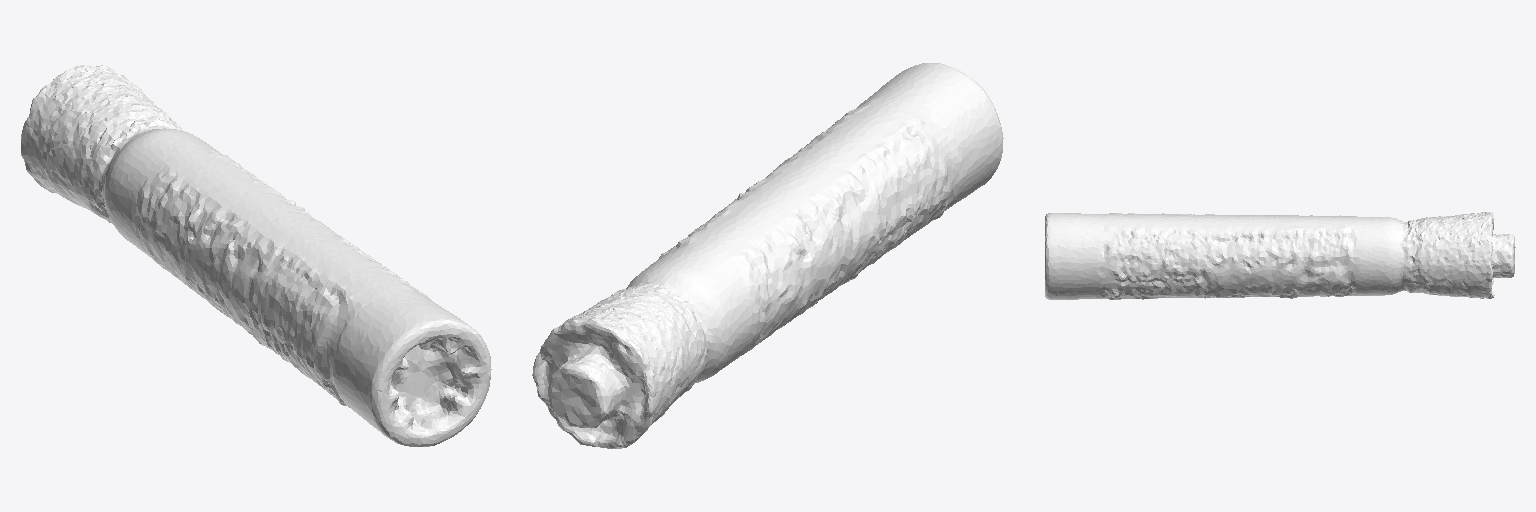
URDF robot description (textured):
<?xml version="1.0" ?>
<robot name="textured">
 <link name="baseLink">
   <contact>
     <lateral_friction value="0.5"/>
   </contact>
    <inertial>
        <origin rpy="0 0 0" xyz="0 0 0"/>
        <mass value="1.0"/>
        <inertia ixx="1" ixy="0" ixz="0" iyy="1" iyz="0" izz="1"/>
    </inertial>
   <visual>
     <origin rpy="0 0 0" xyz="0 0 0"/>
     <geometry>
       <mesh filename="textured.obj" scale="1.0 1.0 1.0"/>
     </geometry>
      <material name="white">
       <color rgba="1 1 1 1"/>
     </material>
   </visual>
   <collision>
     <origin rpy="0 0 0" xyz="0 0 0"/>
     <geometry>
       <mesh filename="textured_vhacd.obj" scale="1.0 1.0 1.0"/>
     </geometry>
   </collision>
 </link>
</robot>

--- Render facts (derived) ---
Views: 3 orthographic renders of the robot side by side, from view 1: azimuth 30°, elevation 25°; view 2: azimuth 150°, elevation 25°; view 3: azimuth 270°, elevation 25°.
Robot: textured — 1 links, 0 joints (none); root link baseLink; default pose: every joint at zero.
Visible links, largest first — view 1: baseLink; view 2: baseLink; view 3: baseLink.
Link boxes in pixels (bbox=[...]): baseLink: bbox=[21, 65, 491, 446]; baseLink: bbox=[532, 63, 1003, 448]; baseLink: bbox=[1045, 212, 1515, 299].
Size in the robot's own frame: 0.0426 by 0.2267 by 0.0425 metres.
1 mesh visuals loaded from 1 distinct referenced files (1 OBJ).